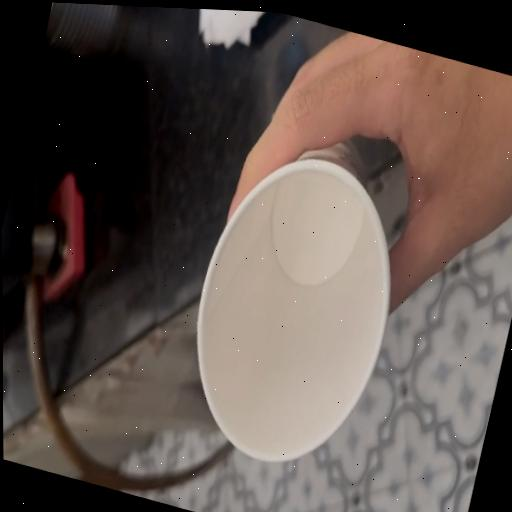Ly_giay: (197, 142, 390, 460)
